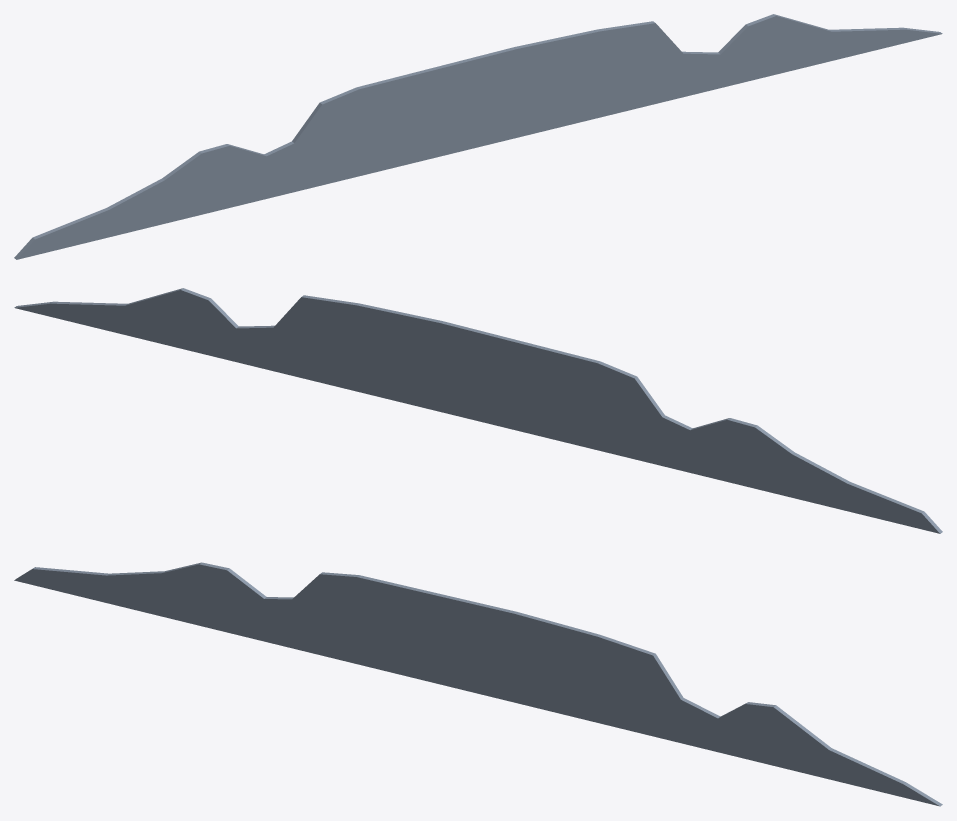
The model's file is table-mountain-silhouette.glb.
3 views of the same model, one above another, from view 1: azimuth 30°, elevation 25°; view 2: azimuth 150°, elevation 25°; view 3: azimuth 330°, elevation 25° (orthographic).
Parts seen in each view (by area): view 1: table-mountain-silhouette; view 2: table-mountain-silhouette; view 3: table-mountain-silhouette.
Boxes of the visible parts, <box> form: table-mountain-silhouette: <box>14,14,942,259</box>; table-mountain-silhouette: <box>14,288,942,533</box>; table-mountain-silhouette: <box>14,562,942,806</box>.
Size of the model in its own units: 12000 by 1100 by 60.
